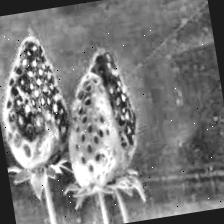Powdery Mildew Fruit: (54, 45, 148, 197), (0, 31, 77, 179)
